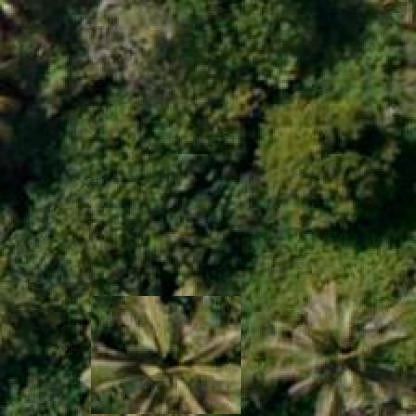coconut tree: (262, 292, 414, 414), (91, 296, 242, 415)
